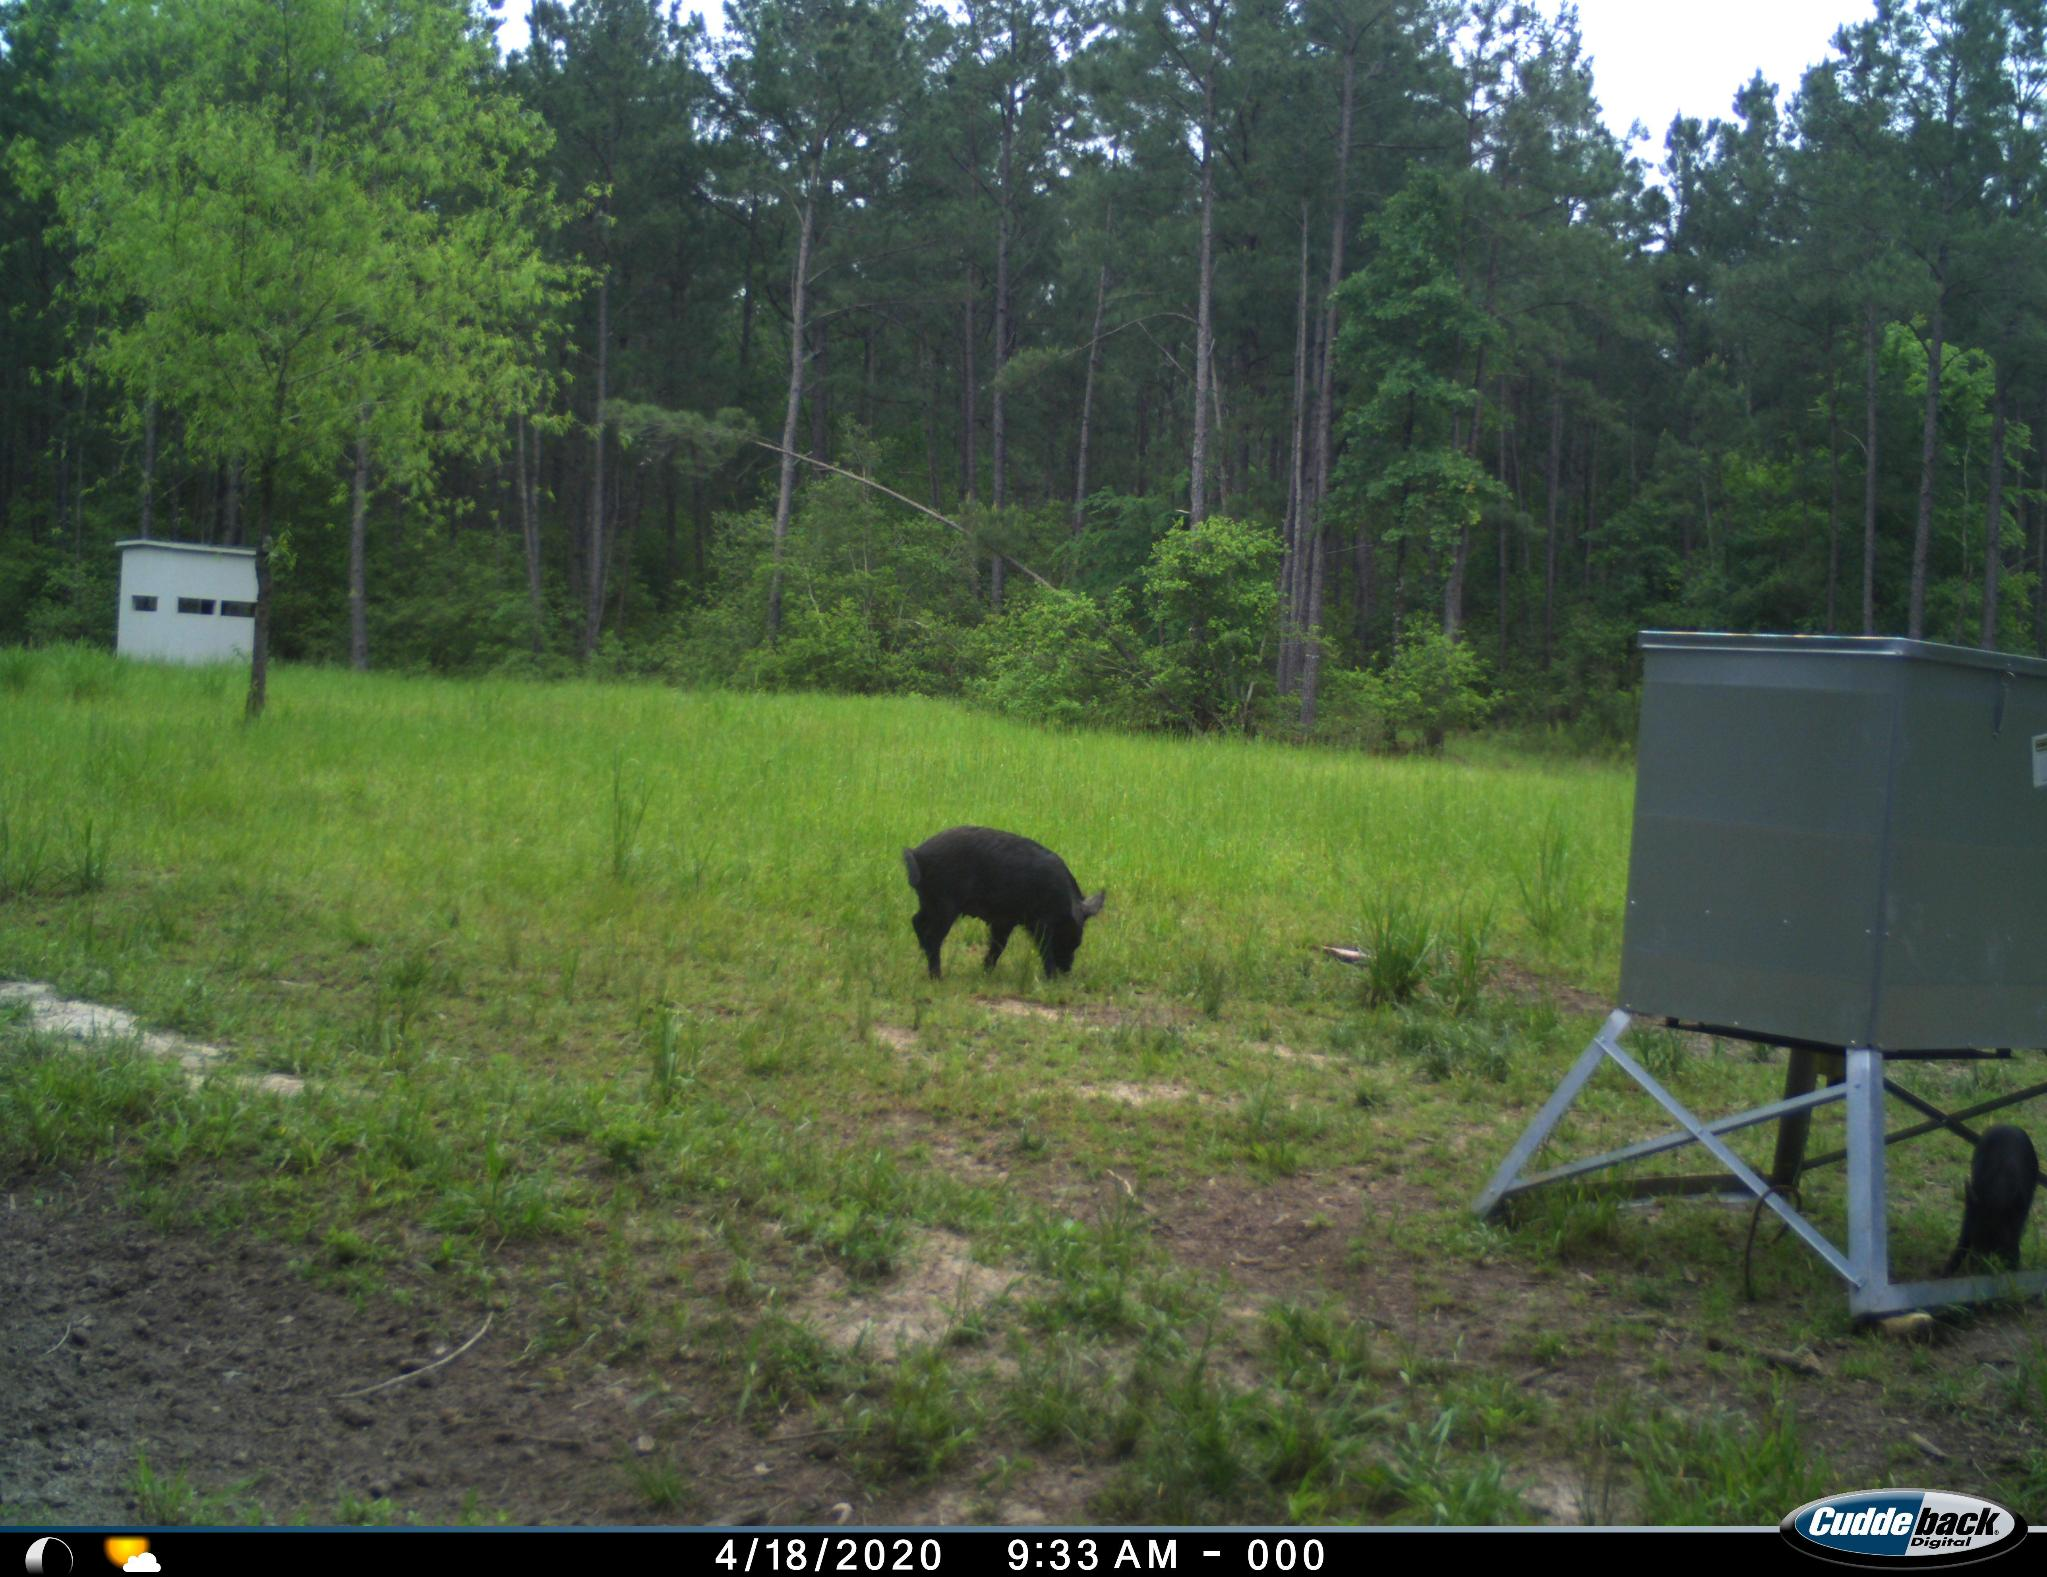Hog: (903, 818, 1111, 1014), (1943, 1115, 2044, 1274)
